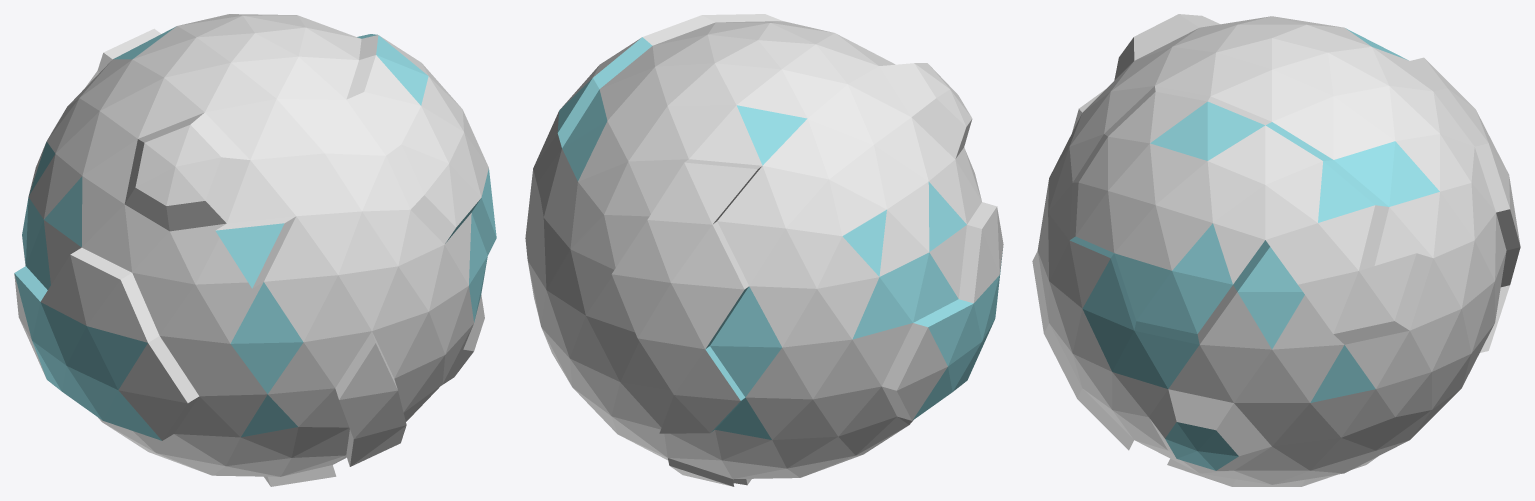
Rendered from planet 4.fbx.
3 renders of one model, left to right at view 1: azimuth 30°, elevation 25°; view 2: azimuth 150°, elevation 25°; view 3: azimuth 270°, elevation 25°, orthographic.
Visible parts, largest first — view 1: Planet; view 2: Planet; view 3: Planet.
Boxes of the visible parts, box(x1,y1,x2,y2) form: Planet: box(14, 14, 496, 486); Planet: box(525, 14, 1003, 486); Planet: box(1032, 14, 1520, 486).
Bounding box in the file's own units: 207 × 205 × 208.
